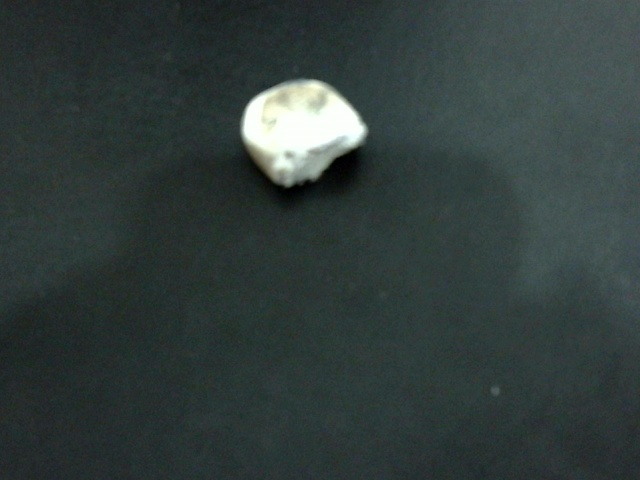eraser: (205, 69, 400, 203)
